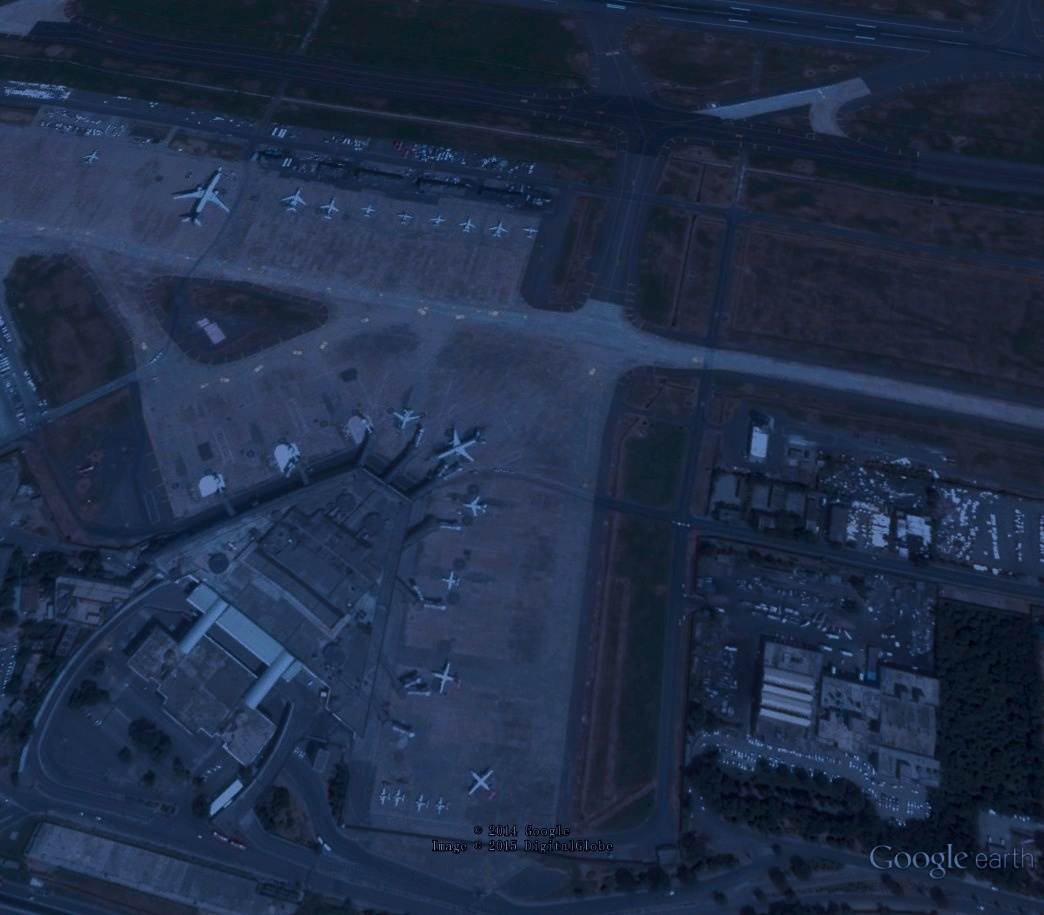aircraft: (168, 163, 235, 232), (431, 423, 489, 469), (428, 658, 467, 700), (466, 765, 503, 806), (391, 405, 425, 435), (459, 491, 492, 520), (280, 185, 308, 214), (316, 196, 344, 222), (439, 569, 463, 594), (485, 218, 513, 239), (390, 786, 411, 811), (432, 793, 452, 817), (80, 148, 104, 167), (375, 785, 393, 810), (413, 792, 431, 817), (458, 216, 479, 236), (396, 208, 418, 227), (520, 222, 541, 241), (357, 202, 377, 220), (427, 211, 448, 227)
